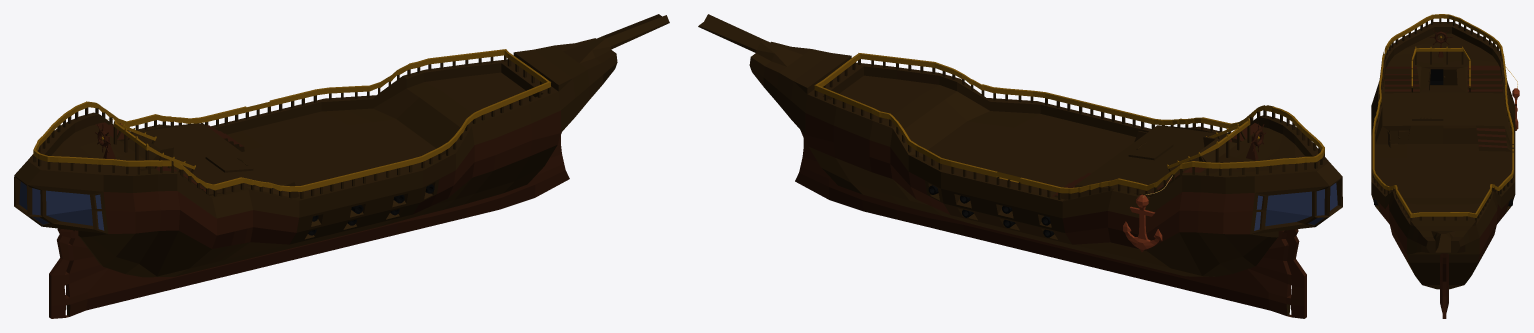
Rendered from ship.glb.
3 views of the same model, side by side, from view 1: azimuth 30°, elevation 25°; view 2: azimuth 150°, elevation 25°; view 3: azimuth 270°, elevation 25° (orthographic). The views are drawn at different scales.
Parts seen in each view (by area): view 1: pirate ship; view 2: pirate ship; view 3: pirate ship.
Part boxes in pixels (x1,y1,x2,y2): pirate ship: [14, 14, 669, 318]; pirate ship: [698, 14, 1342, 318]; pirate ship: [1371, 14, 1519, 318].
Bounding box in the file's own units: 49.29 × 13.57 × 13.43.
